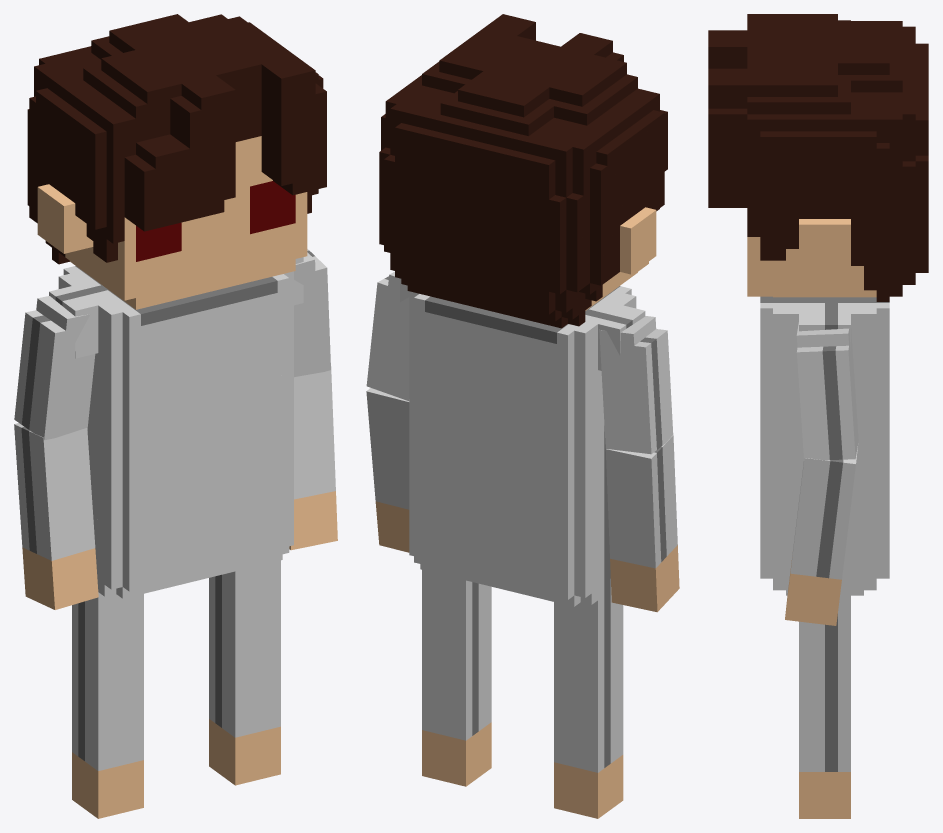
File: Subject1.fbx
3 renders of one model, left to right at view 1: azimuth 30°, elevation 25°; view 2: azimuth 150°, elevation 25°; view 3: azimuth 270°, elevation 25°, orthographic. The views are drawn at different scales.
Visible parts, largest first — view 1: Head_Open_Eyes, Body2, Body1, Body3, Forearm_R, Upper_arm_R, Shin_R, Shin_L, Thigh_R, Thigh_L, Forearm_L, Upper_arm_L (+4 smaller); view 2: Head_Open_Eyes, Body2, Body1, Body3, Upper_arm_R, Forearm_R, Shin_L, Shin_R, Thigh_R, Thigh_L, Forearm_L, Upper_arm_L (+4 smaller); view 3: Head_Open_Eyes, Body1, Body2, Upper_arm_L, Forearm_L, Body3, Shin_L, Thigh_L, Hand_L, Foot_L.
Boxes of the visible parts, bbox=[...] form: Head_Open_Eyes: bbox=[27, 14, 326, 309]; Body2: bbox=[87, 366, 293, 531]; Body1: bbox=[49, 257, 303, 412]; Body3: bbox=[92, 485, 293, 603]; Forearm_R: bbox=[14, 423, 95, 560]; Upper_arm_R: bbox=[14, 296, 95, 440]; Shin_R: bbox=[72, 668, 143, 770]; Shin_L: bbox=[209, 635, 280, 737]; Thigh_R: bbox=[72, 594, 143, 687]; Thigh_L: bbox=[209, 560, 280, 653]; Forearm_L: bbox=[294, 366, 335, 499]; Upper_arm_L: bbox=[294, 249, 330, 377]; Head_Open_Eyes: bbox=[379, 14, 667, 328]; Body2: bbox=[409, 382, 608, 542]; Body1: bbox=[400, 278, 645, 427]; Body3: bbox=[409, 497, 611, 611]; Upper_arm_R: bbox=[599, 316, 673, 454]; Forearm_R: bbox=[605, 435, 677, 568]; Shin_L: bbox=[422, 642, 491, 740]; Shin_R: bbox=[554, 674, 623, 772]; Thigh_R: bbox=[554, 602, 623, 692]; Thigh_L: bbox=[422, 570, 491, 659]; Forearm_L: bbox=[366, 388, 409, 509]; Upper_arm_L: bbox=[366, 271, 409, 400]; Head_Open_Eyes: bbox=[708, 14, 928, 301]; Body1: bbox=[760, 296, 889, 407]; Body2: bbox=[760, 402, 889, 525]; Upper_arm_L: bbox=[796, 322, 858, 460]; Forearm_L: bbox=[790, 446, 857, 579]; Body3: bbox=[760, 520, 889, 607]; Shin_L: bbox=[799, 689, 850, 771]; Thigh_L: bbox=[799, 607, 850, 689]; Hand_L: bbox=[785, 557, 841, 625]; Foot_L: bbox=[799, 772, 850, 818].
Size of the model in its own units: 1.01 by 2.44 by 0.669.
